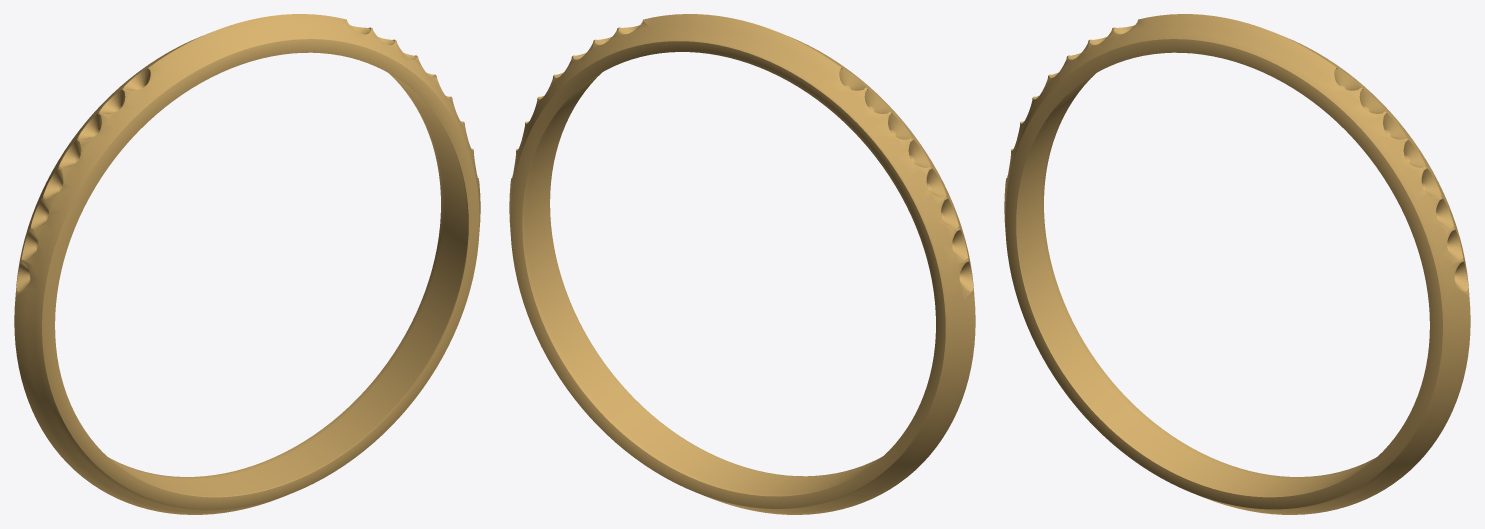
The model's file is knife-edge-micro-pave.glb.
3 renders of one model, left to right at view 1: azimuth 30°, elevation 25°; view 2: azimuth 150°, elevation 25°; view 3: azimuth 330°, elevation 25°, orthographic.
Parts seen in each view (by area): view 1: Band; view 2: Band; view 3: Band.
Part boxes in pixels (box(x1,y1,x2,y2)): Band: box(14, 14, 480, 514); Band: box(509, 14, 975, 514); Band: box(1004, 14, 1470, 514).
Bounding box in the file's own units: 19.6 × 19.6 × 2.1.
